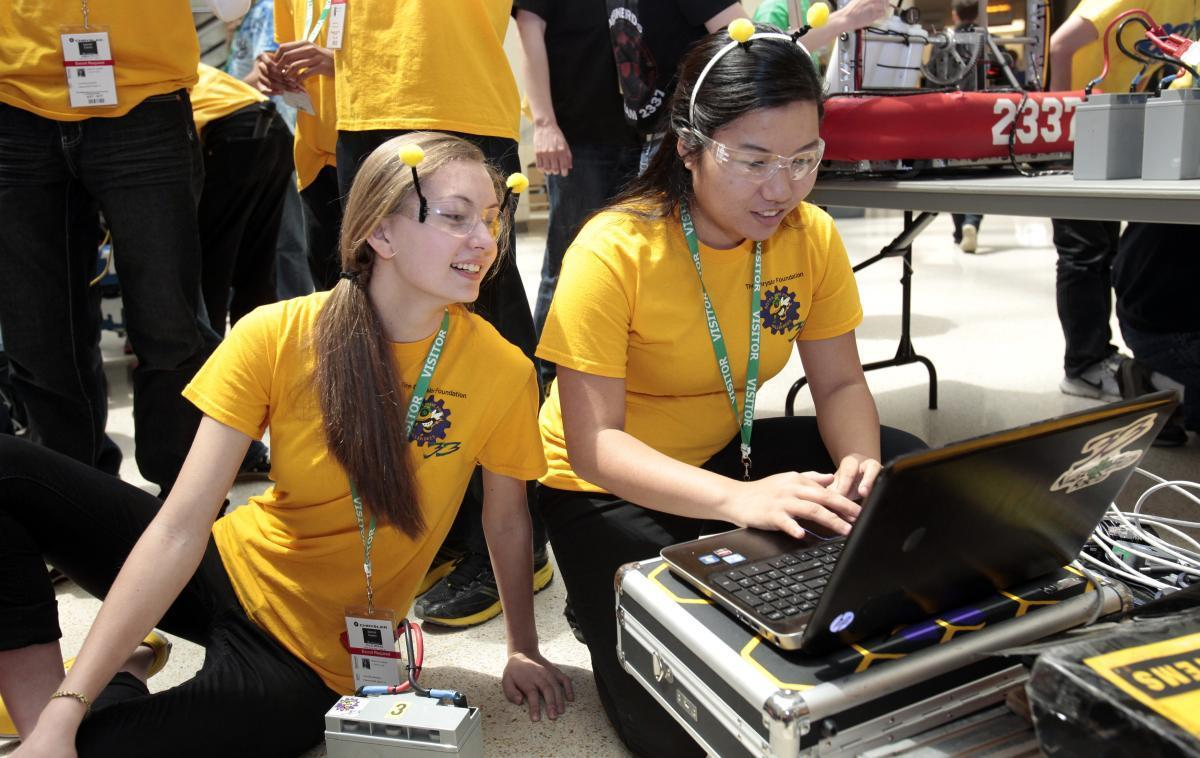robot: (756, 0, 1136, 171)
